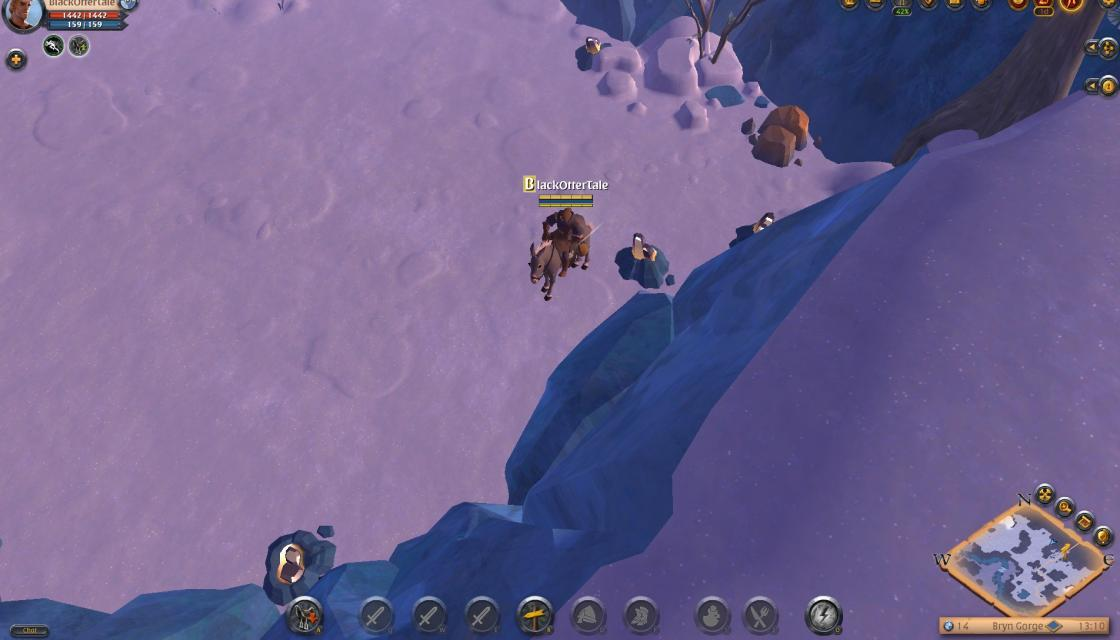copperore: (611, 231, 674, 285), (724, 208, 778, 238), (570, 34, 614, 64)
limestone: (748, 101, 809, 161)
